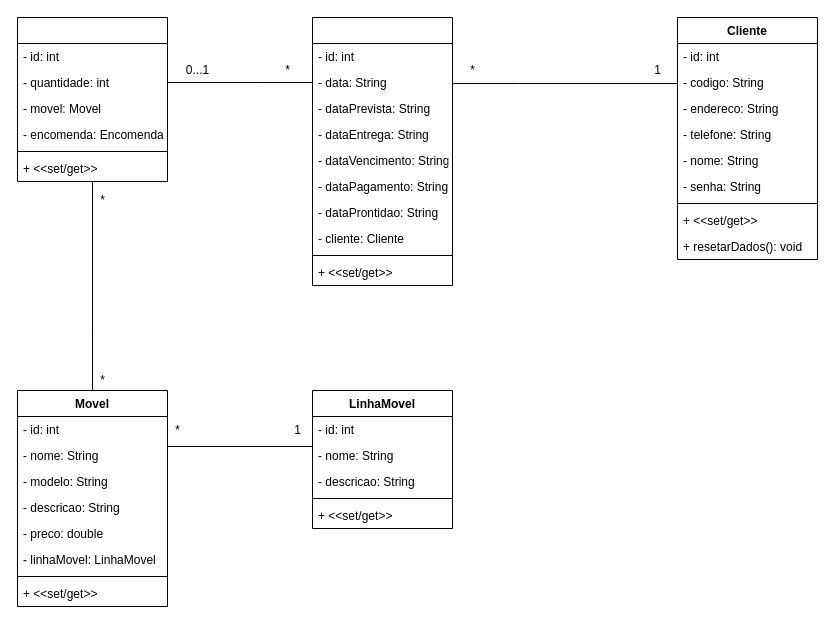
Image size: 835x627. Some labels were removed from this diagram. Here are the shapes that lost their labels. From the top down, the box of each, then its label:
(16, 16, 168, 182): ItemEncomenda
(312, 16, 452, 286): Encomenda
